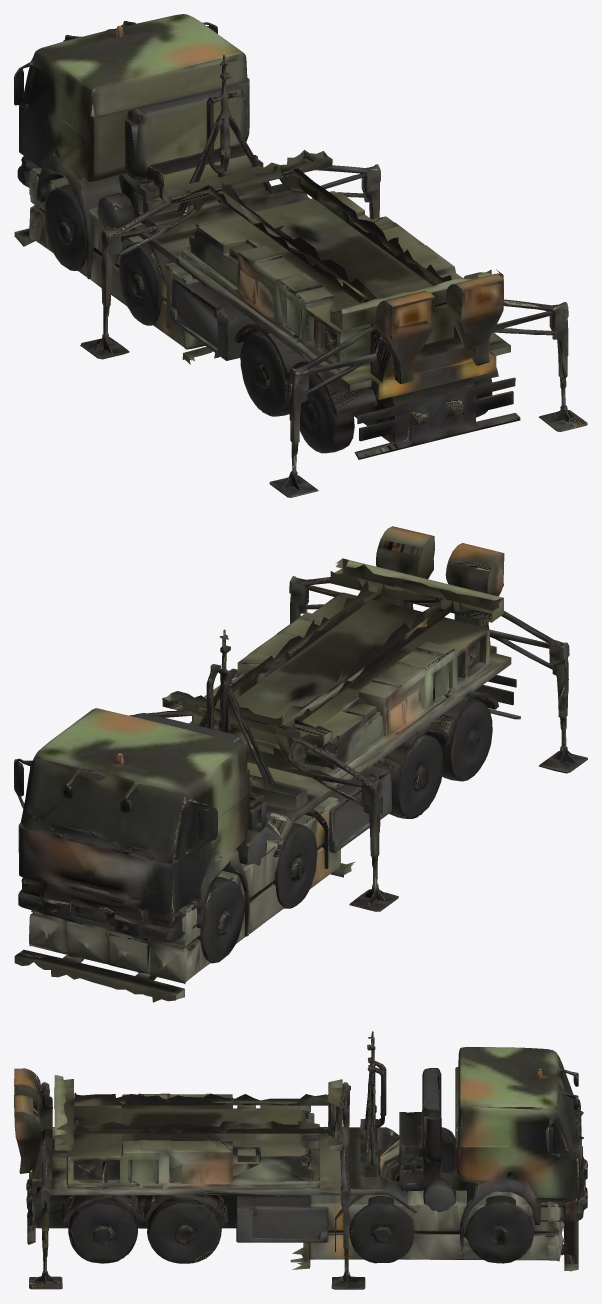
File: sampt_lo.glb
3 views of the same model, one above another, from view 1: azimuth 30°, elevation 25°; view 2: azimuth 150°, elevation 25°; view 3: azimuth 270°, elevation 25° (orthographic). The views are drawn at different scales.
Visible parts, largest first — view 1: body|material_0, cradle|material_0; view 2: body|material_0, cradle|material_0; view 3: body|material_0, cradle|material_0.
Part boxes in pixels (x1,y1,x2,y2): body|material_0: [14, 14, 587, 497]; cradle|material_0: [14, 167, 219, 364]; body|material_0: [14, 526, 587, 963]; cradle|material_0: [14, 797, 355, 1002]; body|material_0: [14, 1031, 587, 1289]; cradle|material_0: [290, 1190, 578, 1271].
Size of the model in its own units: 5.06 by 4.25 by 10.46.
Materials: 2 (2 with a texture image).
